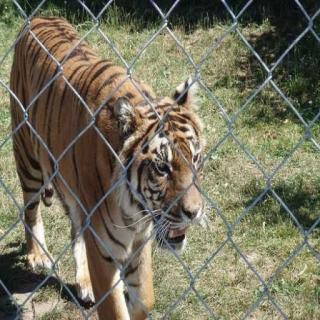Tiger: (0, 2, 224, 319)
